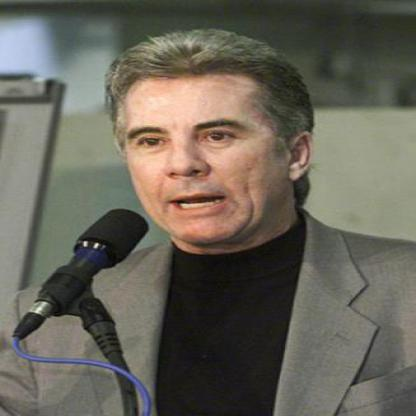face: (115, 34, 293, 251)
